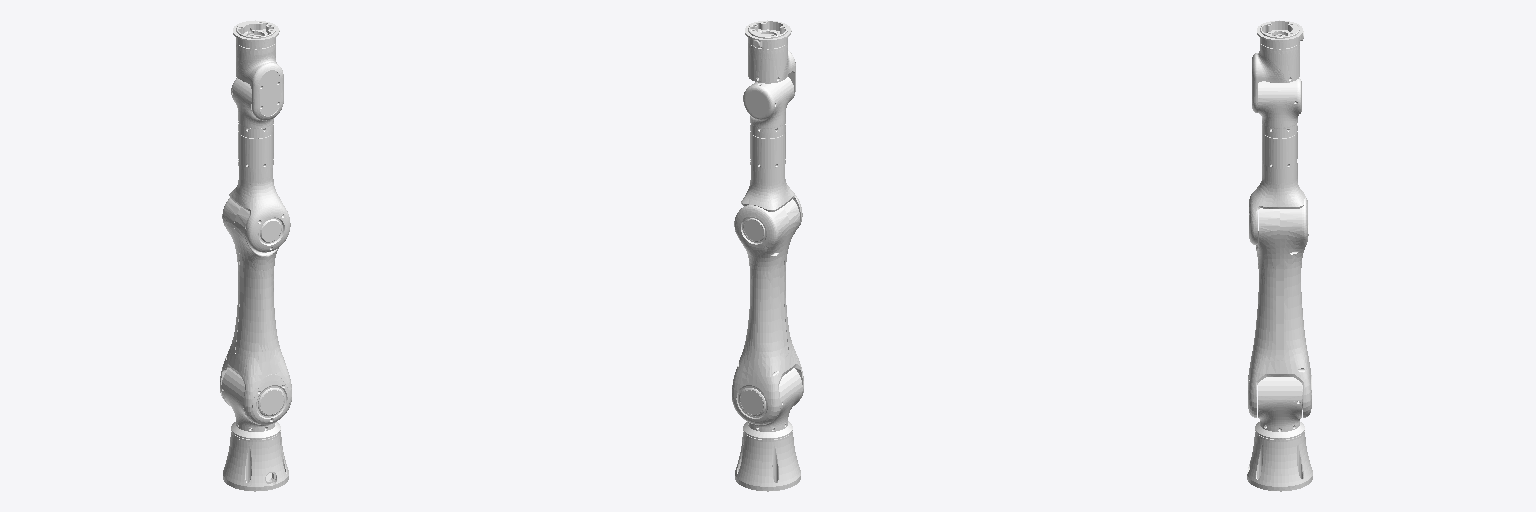
The robot description file, URDF, robot "arm620":
<?xml version="1.0" encoding="utf-8"?>
<robot name="arm620">

  <link name="base_link">
    <visual>
      <origin xyz="0 0 0" rpy="0 0 0" />
      <geometry>
        <mesh filename="package://robot_description/meshes/arm620/base_link.STL" />
      </geometry>
      <material name="">
        <color rgba="1 1 1 1" />
      </material>
    </visual>
    <collision>
      <origin xyz="0 0 0" rpy="0 0 0" />
      <geometry>
        <mesh filename="package://robot_description/meshes/arm620/base_link.STL" />
      </geometry>
    </collision>
    <inertial>
      <origin xyz="1.87450927250337E-06 0.00181524829320902 0.0292921603078834" rpy="0 0 0" />
      <mass value="0.170880634330369" />
      <inertia
        ixx="0.000229347645280298"
        ixy="1.61599294610908E-08"
        ixz="4.7513827953779E-09"
        iyy="0.000240285227629261"
        iyz="4.75812244440811E-06"
        izz="0.000302923360069409" />
    </inertial>    
  </link>

  <link name="Link1">
    <visual>
      <origin xyz="0 0 0" rpy="0 0 0" />
      <geometry>
        <mesh filename="package://robot_description/meshes/arm620/Link1.STL" />
      </geometry>
      <material name="">
        <color rgba="1 1 1 1" />
      </material>
    </visual>
    <collision>
      <origin xyz="0 0 0" rpy="0 0 0" />
      <geometry>
        <mesh filename="package://robot_description/meshes/arm620/Link1.STL" />
      </geometry>
    </collision>
    <inertial>
      <origin xyz="-0.00543360845091959 -1.84239302827209E-07 0.0550553220027922" rpy="0 0 0" />
      <mass value="0.151006149586524" />
      <inertia
        ixx="0.000215056936605856"
        ixy="-2.64732122422687E-09"
        ixz="-6.12933911087815E-06"
        iyy="0.00016424143039212"
        iyz="2.4545362355509E-09"
        izz="0.000153914266842238" />
    </inertial>    
  </link>

  <link name="Link2">
    <visual>
      <origin xyz="0 0 0" rpy="0 0 0" />
      <geometry>
        <mesh filename="package://robot_description/meshes/arm620/Link2.STL" />
      </geometry>
      <material name="">
        <color rgba="1 1 1 1" />
      </material>
    </visual>
    <collision>
      <origin xyz="0 0 0" rpy="0 0 0" />
      <geometry>
        <mesh filename="package://robot_description/meshes/arm620/Link2.STL" />
      </geometry>
    </collision>
    <inertial>
      <origin xyz="3.58002762885841E-07 0.137642100574428 -0.0363153154927349" rpy="0 0 0" />
      <mass value="0.343463687955357" />
      <inertia
        ixx="0.00445993608731396"
        ixy="2.50197463653835E-08"
        ixz="-5.37531747791493E-09"
        iyy="0.00025018277432589"
        iyz="3.43689813831552E-05"
        izz="0.00459396075839913" />
    </inertial>
  </link>
  
  <link name="Link3">
    <visual>
      <origin xyz="0 0 0" rpy="0 0 0" />
      <geometry>
        <mesh filename="package://robot_description/meshes/arm620/Link3.STL" />
      </geometry>
      <material name="">
        <color rgba="1 1 1 1" />
      </material>
    </visual>
    <collision>
      <origin xyz="0 0 0" rpy="0 0 0" />
      <geometry>
        <mesh filename="package://robot_description/meshes/arm620/Link3.STL" />
      </geometry>
    </collision>
    <inertial>
      <origin xyz="1.48206810827003E-06 -0.0510068038969784 -0.0206430915439547" rpy="0 0 0" />
      <mass value="0.13198857635385" />
      <inertia
        ixx="0.000162762137088808"
        ixy="1.41413208376811E-08"
        ixz="-1.34298095947657E-09"
        iyy="0.000116327773462969"
        iyz="-3.06018943581844E-05"
        izz="0.000155122779958364" />
    </inertial>    
  </link>

  <link name="Link4">
    <collision>
      <origin xyz="0 0 0" rpy="0 0 0" />
      <geometry>
        <mesh filename="package://robot_description/meshes/arm620/Link4.STL" />
      </geometry>
    </collision>
    <inertial>
      <origin xyz="-6.02521247008215E-05 7.99748324407948E-06 0.0453780771462012" rpy="0 0 0" />
      <mass value="0.0765381851810229" />
      <inertia
        ixx="6.04592142795382E-05"
        ixy="2.67147905680342E-09"
        ixz="-4.08931227982265E-06"
        iyy="5.96855208658282E-05"
        iyz="7.33475383624008E-09"
        izz="5.30534683558546E-05" />
    </inertial>    
    <visual>
      <origin xyz="0 0 0" rpy="0 0 0" />
      <geometry>
        <mesh filename="package://robot_description/meshes/arm620/Link4.STL" />
      </geometry>
      <material name="">
        <color rgba="1 1 1 1" />
      </material>
    </visual>    
  </link>

  <link name="Link5">
    <visual>
      <origin xyz="0 0 0" rpy="0 0 0" />
      <geometry>
        <mesh filename="package://robot_description/meshes/arm620/Link5.STL" />
      </geometry>
      <material  name="">
        <color rgba="1 1 1 1" />
      </material>
    </visual>
    <collision>
      <origin xyz="0 0 0" rpy="0 0 0" />
      <geometry>
        <mesh filename="package://robot_description/meshes/arm620/Link5.STL" />
      </geometry>
    </collision>
    <inertial>
      <origin xyz="-0.0520592124509015 -2.62557740618274E-06 -0.0198554732405326" rpy="0 0 0" />
      <mass value="0.0788266395013992" />
      <inertia
        ixx="6.87608587505673E-05"
        ixy="-1.27953066866412E-07"
        ixz="-2.0529870699655E-05"
        iyy="9.21461269028329E-05"
        iyz="2.70889288147051E-09"
        izz="8.42321668969337E-05" />
    </inertial>    
  </link>
  
  <link name="Link6">
    <visual>
      <origin xyz="0 0 0" rpy="0 0 0" />
      <geometry>
        <mesh filename="package://robot_description/meshes/arm620/Link6.STL" />
      </geometry>
      <material name="">
        <color rgba="1 1 1 1" />
      </material>
    </visual>
    <collision>
      <origin xyz="0 0 0" rpy="0 0 0" />
      <geometry>
        <mesh filename="package://robot_description/meshes/arm620/Link6.STL" />
      </geometry>
    </collision>
    <inertial>
      <origin xyz="-0.00364670394665961 0.00151801994573188 0.0107785859589165" rpy="0 0 0" />
      <mass value="0.0321450880318068" />
      <inertia
        ixx="1.28602924359454E-05"
        ixy="-1.21512878921806E-07"
        ixz="2.23984093399708E-07"
        iyy="1.33081087923213E-05"
        iyz="-6.82451208171747E-08"
        izz="2.41834039786456E-05" />
    </inertial>    
  </link>
  <link name="world"/>
  <joint name="base_joint" type="fixed">
      <parent link="world"/>
      <child link="base_link"/>
      <origin xyz="0 0 0" rpy="0 0 0" />
      <axis xyz="0 0 1" />
  </joint>

  <joint name="joint1" type="revolute">
    <origin xyz="0 0 0.084" rpy="0 0 -1.5708" />
    <parent link="base_link" />
    <child link="Link1" />
    <axis xyz="0 0 1" />
    <limit lower="-2.9670" upper="2.9670" effort="49" velocity="3.14" />
  </joint>

  <joint name="joint2" type="revolute">
    <origin xyz="0.035 0 0.06875" rpy="1.5708 0 1.5708" />
    <parent link="Link1" />
    <child link="Link2" />
    <axis xyz="0 0 1" />
    <limit lower="-1.5708" upper="1.5708" effort="49" velocity="3.14" />
  </joint>

  <joint name="joint3" type="revolute">
    <origin xyz="0 0.30025 -0.00093497" rpy="0 0 3.1416" />
    <parent link="Link2" />
    <child link="Link3" />
    <axis xyz="0 0 1" />
    <limit lower="-1.5708" upper="1.5708" effort="49" velocity="3.14" />
  </joint>

  <joint name="joint4" type="revolute">
    <origin xyz="0 -0.15558 -0.03403" rpy="1.5708 -1.5708 0" />
    <parent link="Link3" />
    <child link="Link4" />
    <axis xyz="0 0 1" />
    <limit lower="-2.9670" upper="2.9670" effort="9" velocity="3.14" />
  </joint>

  <joint name="joint5" type="revolute">
    <origin xyz="0.034548 2.0477E-05 0.064223" rpy="9.5457E-05 1.5708 0.00060723" />
    <parent link="Link4" />
    <child link="Link5" />
    <axis xyz="0 0 1" />
    <limit lower="-1.5708" upper="1.5708" effort="9" velocity="3.14" />
  </joint>

  <joint name="joint6" type="revolute">
    <origin xyz="-0.095552 0 -0.034587" rpy="1.5708 -1.5703 -1.5708" />
    <parent link="Link5" />
    <child link="Link6" />
    <axis xyz="0 0 1" />
    <limit lower="-2.9670" upper="2.9670" effort="9" velocity="3.14" />
  </joint>

</robot>

--- Facts derived from the render (not from the file) ---
Views: 3 orthographic renders of the robot side by side, from view 1: azimuth 30°, elevation 25°; view 2: azimuth 150°, elevation 25°; view 3: azimuth 270°, elevation 25°.
Model arm620 with 8 links and 7 joints (6 revolute, 1 fixed), rooted at world, posed all joints at 0.
Visible links, largest first — view 1: Link2, Link3, base_link, Link5, Link1, Link4, Link6; view 2: Link2, base_link, Link3, Link4, Link5, Link1, Link6; view 3: Link2, Link3, base_link, Link1, Link4, Link5, Link6.
Link boxes in pixels (x1,y1,x2,y2): Link2: [220, 198, 291, 424]; Link3: [229, 131, 290, 252]; base_link: [223, 431, 288, 491]; Link5: [236, 35, 283, 120]; Link1: [221, 368, 280, 439]; Link4: [231, 78, 273, 138]; Link6: [233, 20, 279, 48]; Link2: [732, 199, 803, 424]; base_link: [735, 431, 800, 491]; Link3: [741, 132, 802, 228]; Link4: [743, 77, 793, 138]; Link5: [748, 43, 795, 98]; Link1: [743, 368, 802, 439]; Link6: [745, 20, 791, 48]; Link2: [1248, 196, 1311, 417]; Link3: [1249, 132, 1304, 244]; base_link: [1247, 431, 1312, 491]; Link1: [1255, 377, 1304, 439]; Link4: [1258, 78, 1301, 138]; Link5: [1252, 35, 1299, 112]; Link6: [1257, 20, 1303, 48].
Size in the robot's own frame: 0.1059 by 0.1059 by 0.7894 metres.
Meshes: 7 distinct files referenced, 7 mesh visuals loaded (7 binary STL).